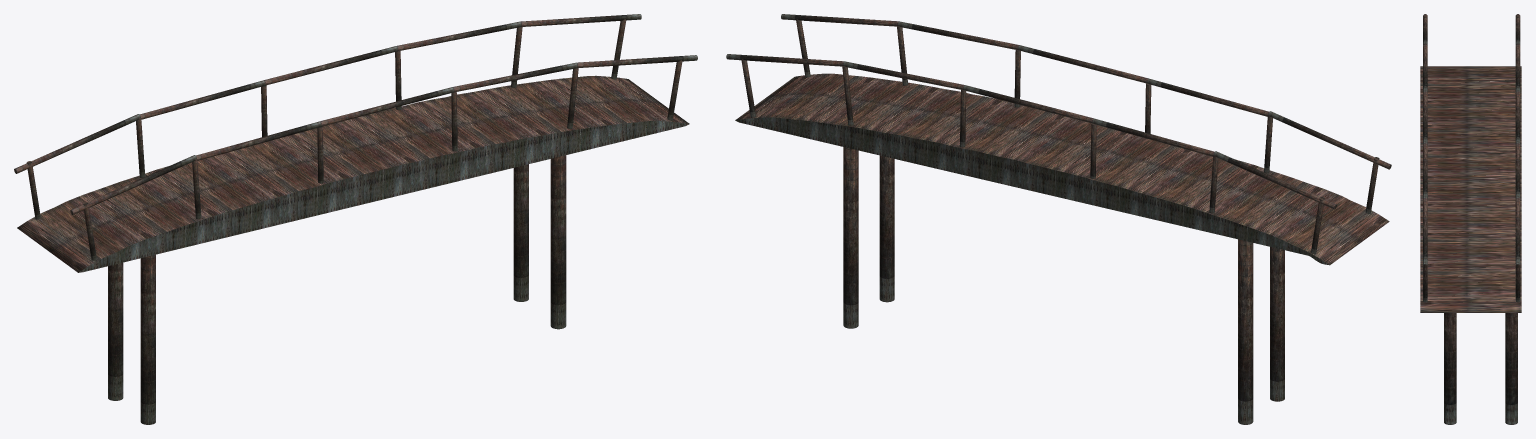
File: most.fbx
3 views of the same model, side by side, from view 1: azimuth 30°, elevation 25°; view 2: azimuth 150°, elevation 25°; view 3: azimuth 270°, elevation 25° (orthographic). The views are drawn at different scales.
Visible parts, largest first — view 1: Extrude NURBS, Cap 1, Cylinder.26, Cylinder.23, Cylinder.24, Cylinder.25, Cylinder.3, Cylinder.14, Cylinder.16, Cylinder.5, Cylinder.4, Cylinder.15 (+4 smaller); view 2: Extrude NURBS, Cap 2, Cylinder.24, Cylinder.25, Cylinder.26, Cylinder.23, Cylinder.3, Cylinder.14, Cylinder.5, Cylinder.16, Cylinder.4, Cylinder.15 (+4 smaller); view 3: Extrude NURBS, Cylinder.25, Cylinder.26, Cylinder.12, Cylinder, Cylinder.13, Cylinder.14, Cylinder.15, Cylinder.2, Cylinder.3, Cylinder.4, Cylinder.22 (+3 smaller).
Boxes of the visible parts, bbox=[...] form: Extrude NURBS: bbox=[17, 75, 689, 272]; Cap 1: bbox=[78, 120, 689, 272]; Cylinder.26: bbox=[550, 155, 566, 329]; Cylinder.23: bbox=[140, 254, 155, 424]; Cylinder.24: bbox=[108, 262, 123, 400]; Cylinder.25: bbox=[513, 164, 528, 301]; Cylinder.3: bbox=[319, 87, 454, 126]; Cylinder.14: bbox=[263, 46, 397, 85]; Cylinder.16: bbox=[14, 114, 140, 173]; Cylinder.5: bbox=[70, 155, 196, 214]; Cylinder.4: bbox=[194, 121, 322, 160]; Cylinder.15: bbox=[138, 80, 266, 119]; Extrude NURBS: bbox=[735, 73, 1389, 264]; Cap 2: bbox=[735, 117, 1329, 265]; Cylinder.24: bbox=[1238, 239, 1253, 424]; Cylinder.25: bbox=[843, 147, 858, 328]; Cylinder.26: bbox=[879, 155, 894, 302]; Cylinder.23: bbox=[1270, 247, 1284, 401]; Cylinder.3: bbox=[1018, 45, 1148, 83]; Cylinder.14: bbox=[963, 85, 1093, 123]; Cylinder.5: bbox=[1268, 111, 1391, 169]; Cylinder.16: bbox=[1213, 151, 1336, 209]; Cylinder.4: bbox=[1146, 78, 1270, 116]; Cylinder.15: bbox=[1091, 118, 1215, 156]; Extrude NURBS: bbox=[1420, 66, 1521, 312]; Cylinder.25: bbox=[1505, 313, 1517, 424]; Cylinder.26: bbox=[1444, 313, 1456, 424]; Cylinder.12: bbox=[1515, 197, 1520, 267]; Cylinder: bbox=[1423, 197, 1427, 267]; Cylinder.13: bbox=[1515, 143, 1520, 198]; Cylinder.14: bbox=[1515, 91, 1520, 144]; Cylinder.15: bbox=[1515, 44, 1520, 92]; Cylinder.2: bbox=[1423, 143, 1427, 198]; Cylinder.3: bbox=[1423, 91, 1427, 144]; Cylinder.4: bbox=[1423, 44, 1427, 92]; Cylinder.22: bbox=[1515, 267, 1520, 302].
Size of the model in its own units: 1111 by 474 by 189.
Materials: 1 (1 with a texture image).
